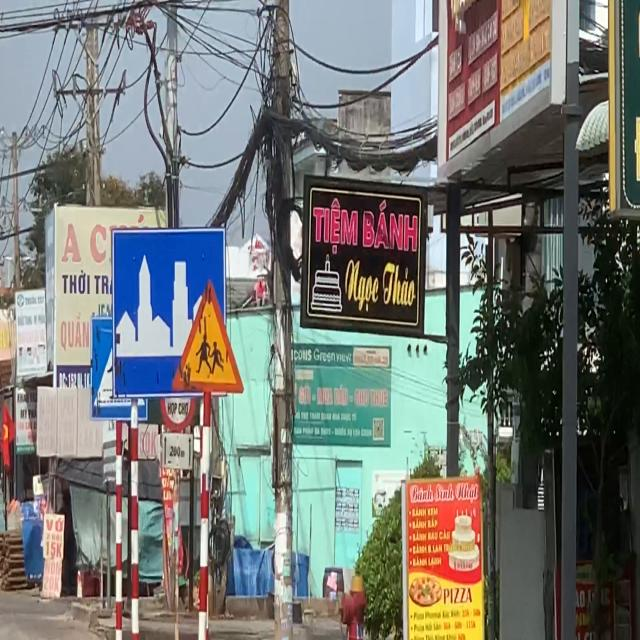Nguy hiem: (170, 276, 246, 397)
